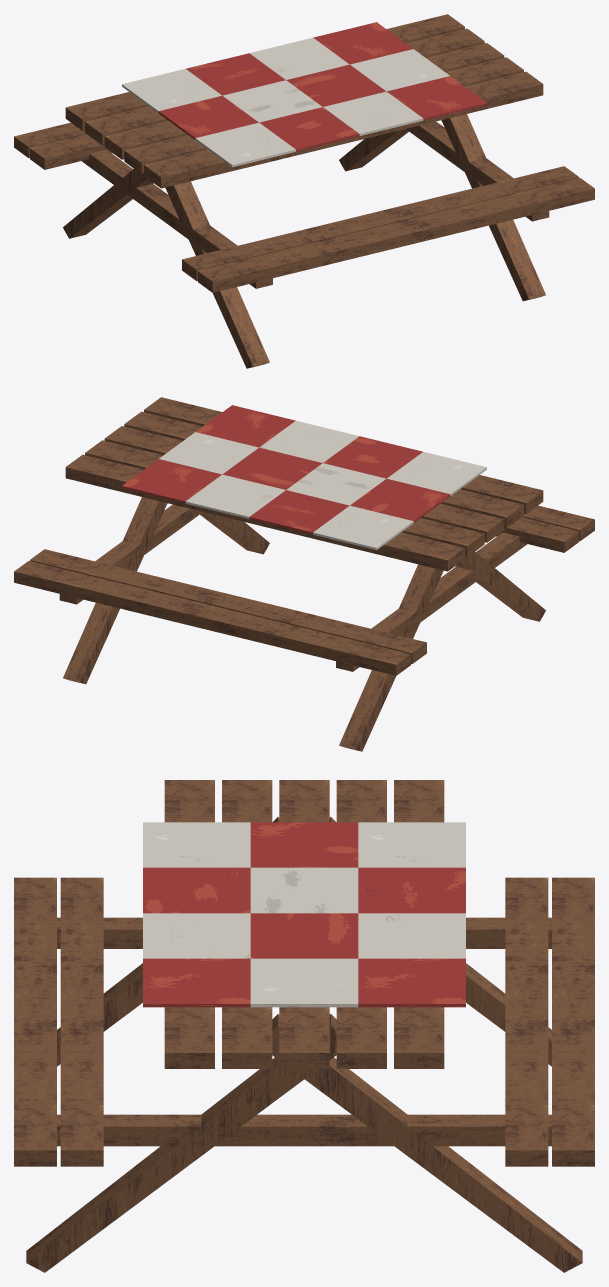
Rendered from picnic_table.glb.
The picture shows the model from 3 angles, top to bottom: view 1: azimuth 30°, elevation 25°; view 2: azimuth 150°, elevation 25°; view 3: azimuth 270°, elevation 25°; orthographic projection. The views are drawn at different scales.
Parts seen in each view (by area): view 1: Prop; view 2: Prop; view 3: Prop.
Part boxes in pixels (<box>): Prop: <box>14,14,594,368</box>; Prop: <box>14,397,594,751</box>; Prop: <box>14,780,594,1272</box>.
Bounding box in the file's own units: 1.8 × 0.785 × 1.62.
Materials: 2 (2 with a texture image).
